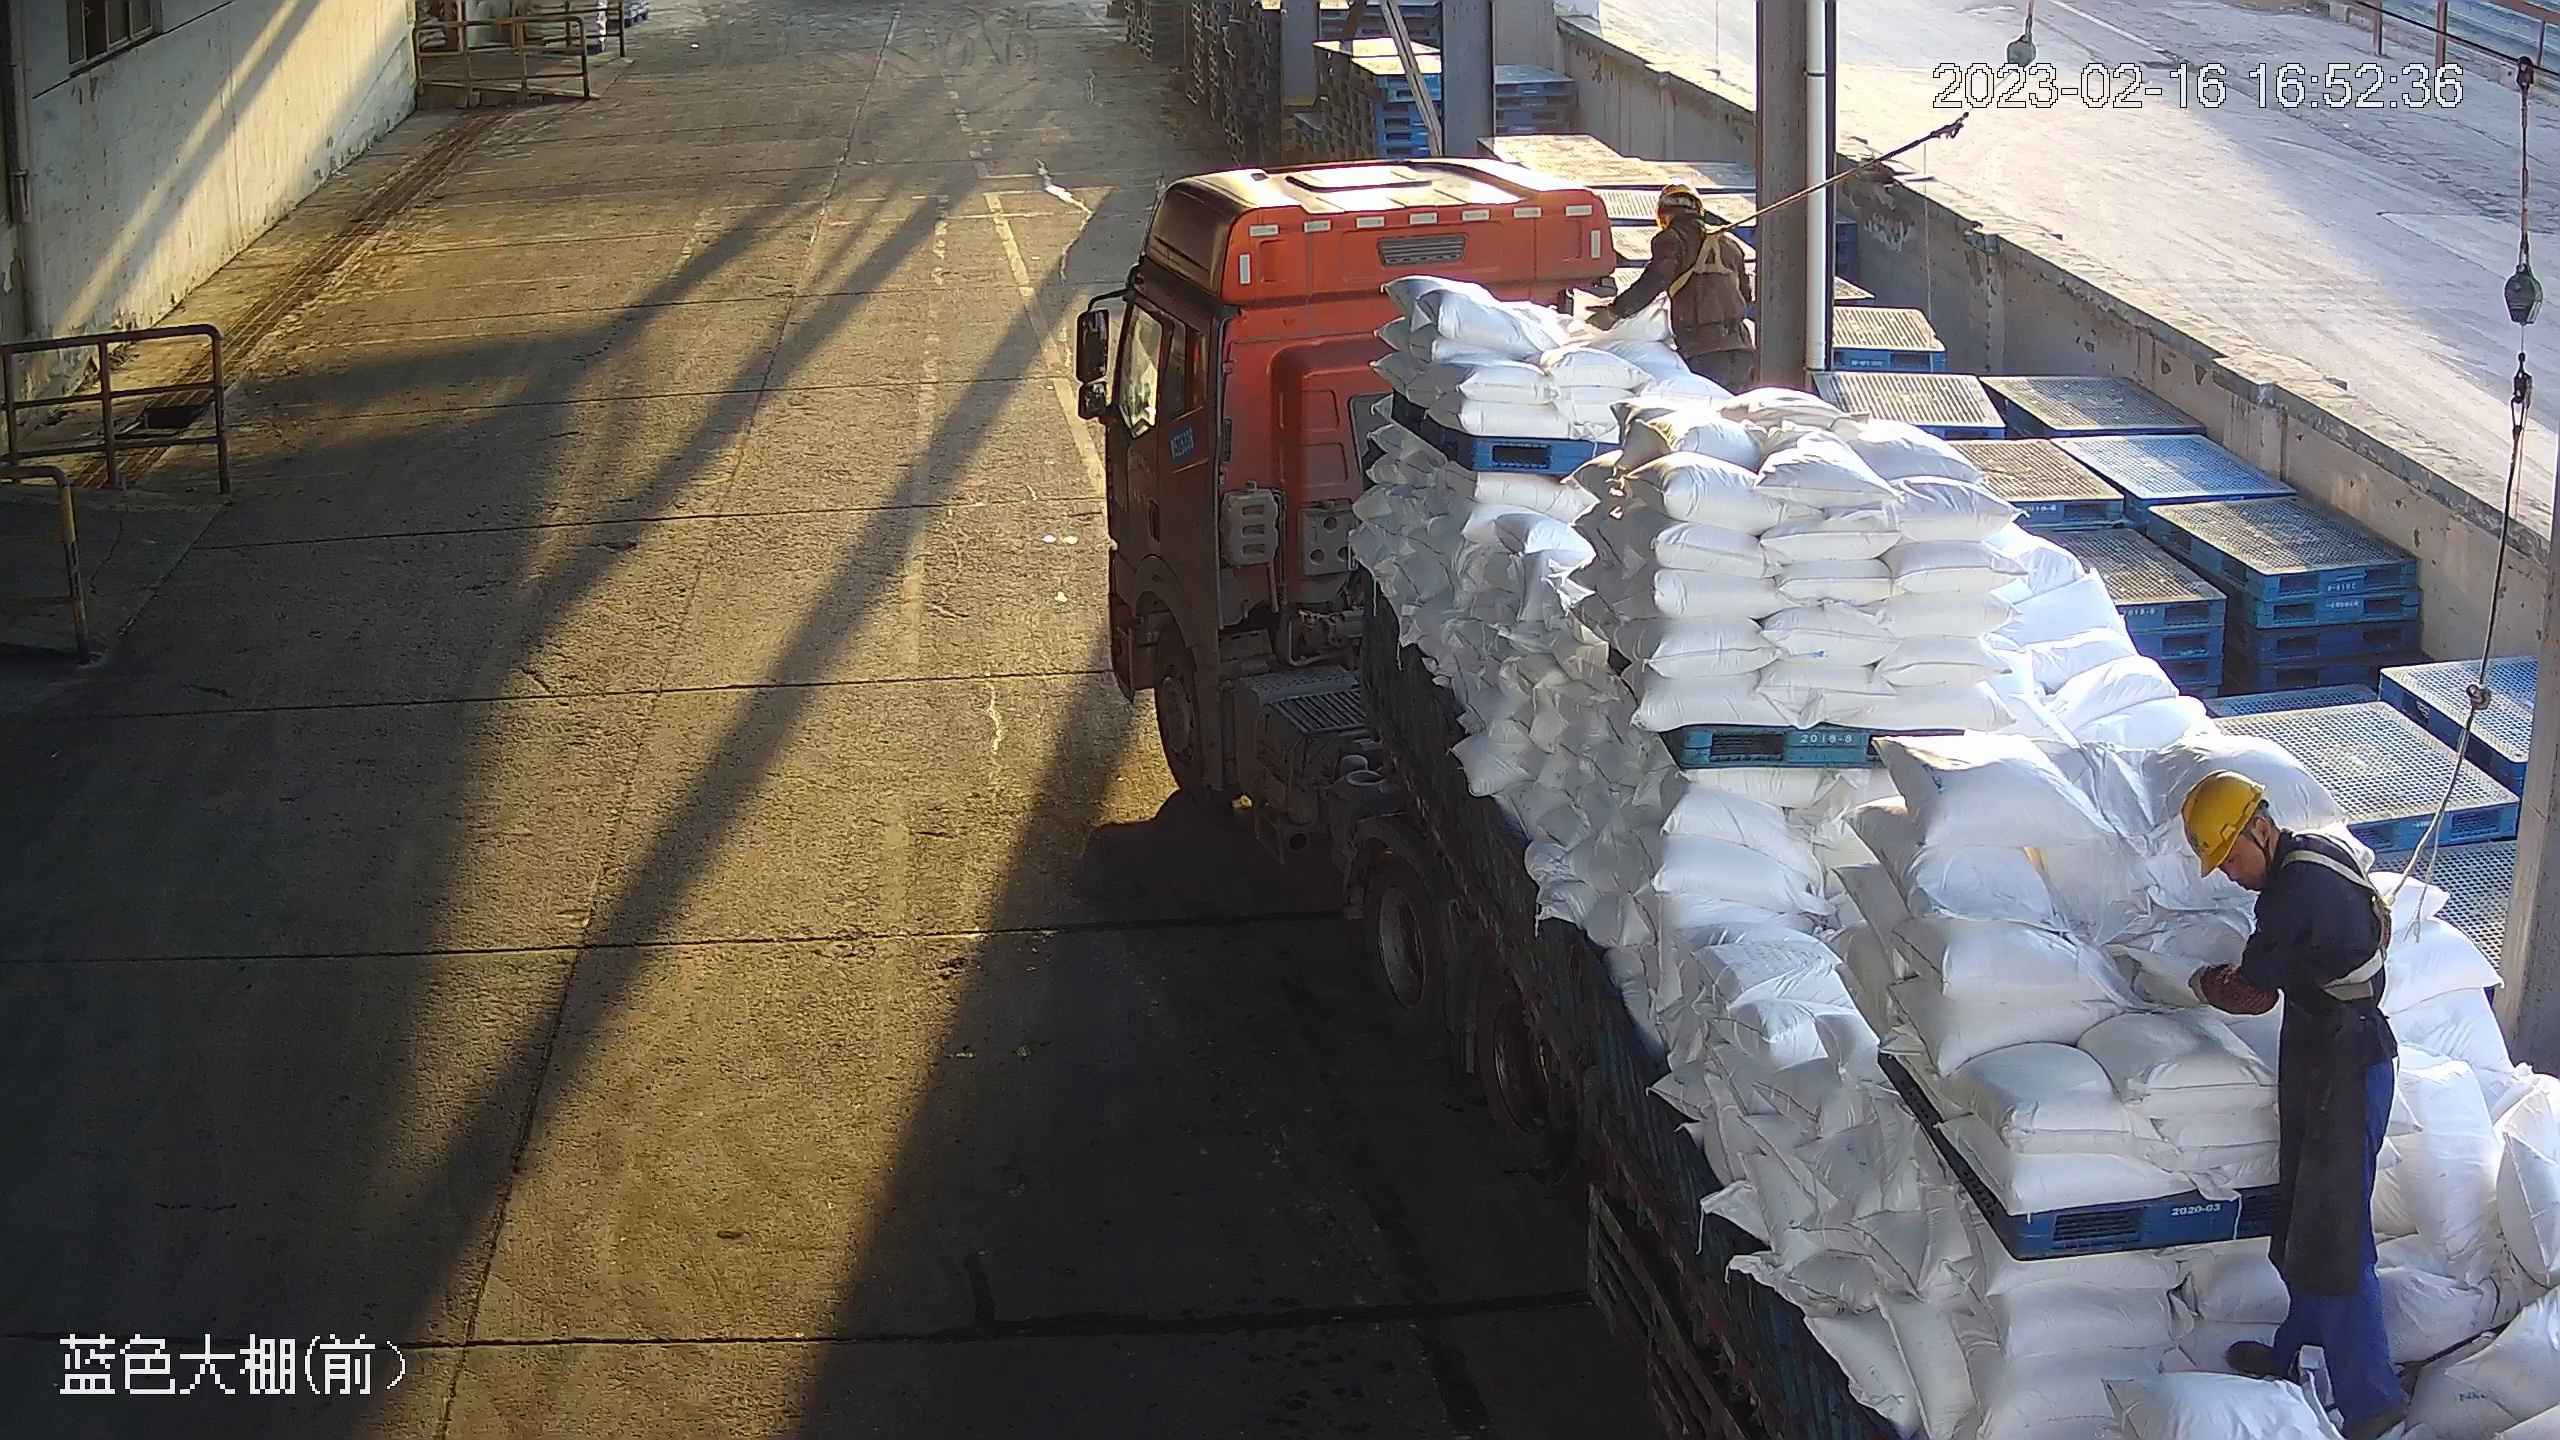belt: (2281, 825, 2390, 982), (1664, 218, 1753, 292)
head: (2177, 781, 2392, 970), (1638, 182, 1753, 271)
helmet: (2175, 771, 2272, 875), (1655, 173, 1707, 214)
people: (2170, 768, 2414, 1440)
truck: (1075, 151, 2560, 1434)
